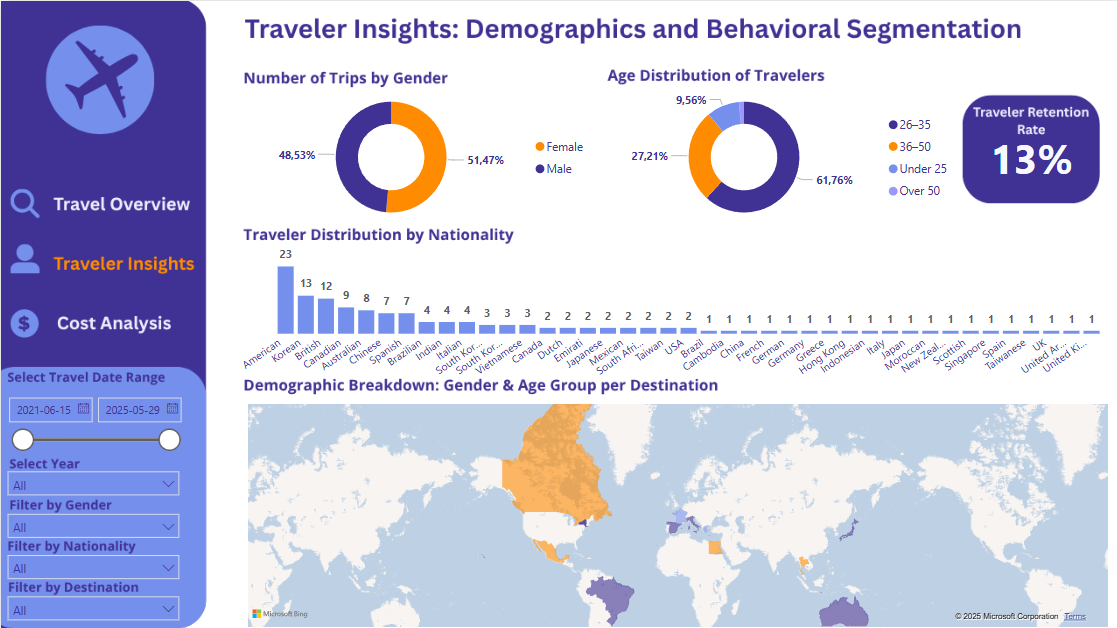

The dashboard page shown, as its layout file describes it:
{"tool":"powerbi","page":{"name":"Traveler Insights","canvas":[1280,720],"ordinal":2},"visuals":[{"type":"donutChart","fields":{"Category":["Travel details dataset.Traveler Gender"],"Y":["CountNonNull(Travel details dataset.Trip ID)"]},"box":[277.1,91.4,402.9,174.3],"z":0},{"type":"donutChart","fields":{"Category":["Travel details dataset.Traveler Age Group"],"Y":["CountNonNull(Travel details dataset.Trip ID)"]},"box":[680,91.4,415.7,174.3],"z":1000},{"type":"columnChart","fields":{"Category":["Travel details dataset.Traveler Nationality"],"Y":["CountNonNull(Travel details dataset.Trip ID)"]},"box":[267.1,265.7,1002.9,175.7],"z":2000},{"type":"filledMap","fields":{"Category":["Travel details dataset.Destination"],"Series":["Travel details dataset.Traveler Age Group"]},"box":[277.1,455.7,992.9,264.3],"z":3000},{"type":"actionButton","title":"Travel Insights","box":[6.9,268.5,230,65.4],"z":4000},{"type":"actionButton","title":"Travel Insights","box":[6.9,335.4,230,66.2],"z":5000},{"type":"actionButton","title":"Travel Insights","box":[6.9,201.5,230,64.6],"z":6000},{"type":"card","fields":{"Values":["Travel details dataset.Traveler Retention Rate %"]},"box":[1085.7,118.6,184.3,120],"z":7000},{"type":"slicer","fields":{"Values":["DateTable.Date"]},"box":[1.4,448.6,207.1,78.6],"z":10000},{"type":"slicer","fields":{"Values":["Travel details dataset.Destination"]},"box":[2.9,675.7,205.7,44.3],"z":11000},{"type":"slicer","fields":{"Values":["Travel details dataset.Traveler Nationality"]},"box":[2.9,628.6,205.7,34.3],"z":12000},{"type":"slicer","fields":{"Values":["Travel details dataset.Traveler Gender"]},"box":[2.9,582,205.7,35.7],"z":14000},{"type":"slicer","fields":{"Values":["DateTable.Year"]},"box":[2.3,533,205.7,34.3],"z":15000}]}

Visuals, with their boxes in screenshot pixels (x1, y1, x2, y2), scaled from the page's 1280x720 canvas onto the 1117x628 screenshot:
donutChart - Travel details dataset.Traveler Gender x CountNonNull(Travel details dataset.Trip ID): {"left": 242, "top": 80, "right": 593, "bottom": 232}
donutChart - Travel details dataset.Traveler Age Group x CountNonNull(Travel details dataset.Trip ID): {"left": 593, "top": 80, "right": 956, "bottom": 232}
columnChart - Travel details dataset.Traveler Nationality x CountNonNull(Travel details dataset.Trip ID): {"left": 233, "top": 232, "right": 1108, "bottom": 385}
filledMap - Travel details dataset.Destination x Travel details dataset.Traveler Age Group: {"left": 242, "top": 397, "right": 1108, "bottom": 627}
"Travel Insights" actionButton: {"left": 6, "top": 234, "right": 207, "bottom": 291}
"Travel Insights" actionButton: {"left": 6, "top": 293, "right": 207, "bottom": 350}
"Travel Insights" actionButton: {"left": 6, "top": 176, "right": 207, "bottom": 232}
card - Travel details dataset.Traveler Retention Rate %: {"left": 947, "top": 103, "right": 1108, "bottom": 208}
slicer - DateTable.Date: {"left": 1, "top": 391, "right": 182, "bottom": 460}
slicer - Travel details dataset.Destination: {"left": 3, "top": 589, "right": 182, "bottom": 627}
slicer - Travel details dataset.Traveler Nationality: {"left": 3, "top": 548, "right": 182, "bottom": 578}
slicer - Travel details dataset.Traveler Gender: {"left": 3, "top": 508, "right": 182, "bottom": 539}
slicer - DateTable.Year: {"left": 2, "top": 465, "right": 182, "bottom": 495}
